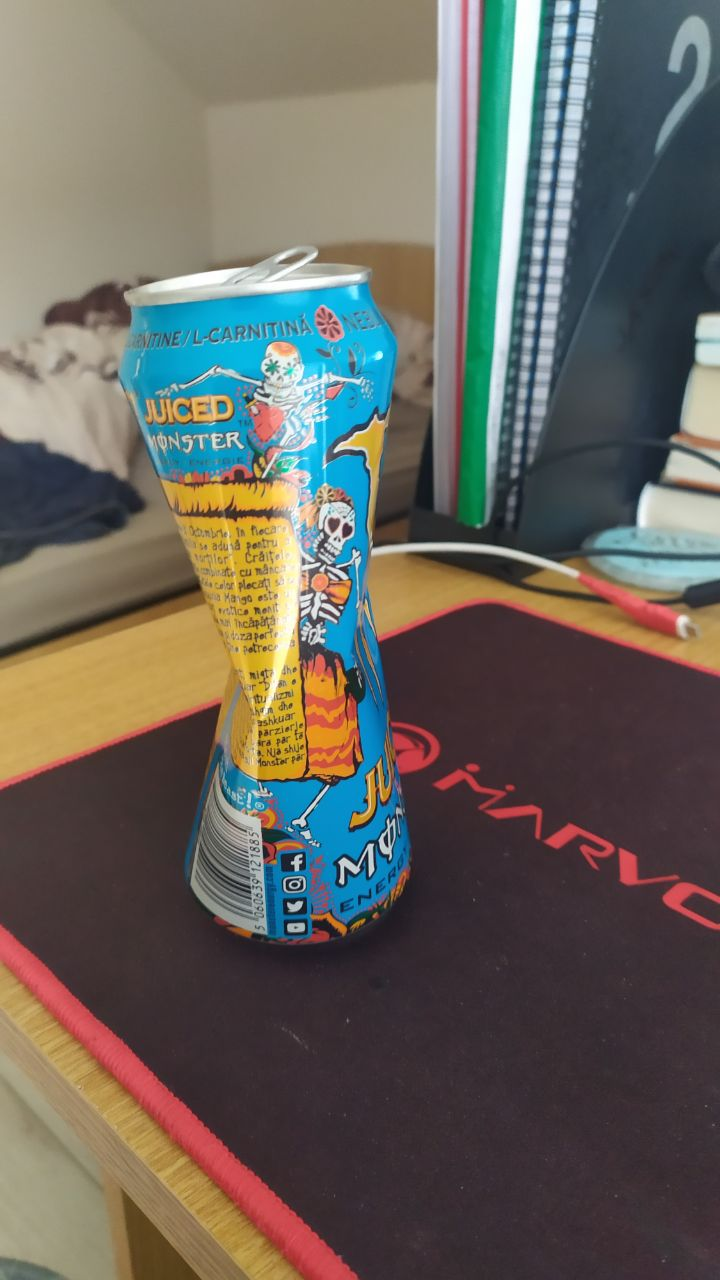Can: (116, 255, 420, 939)
